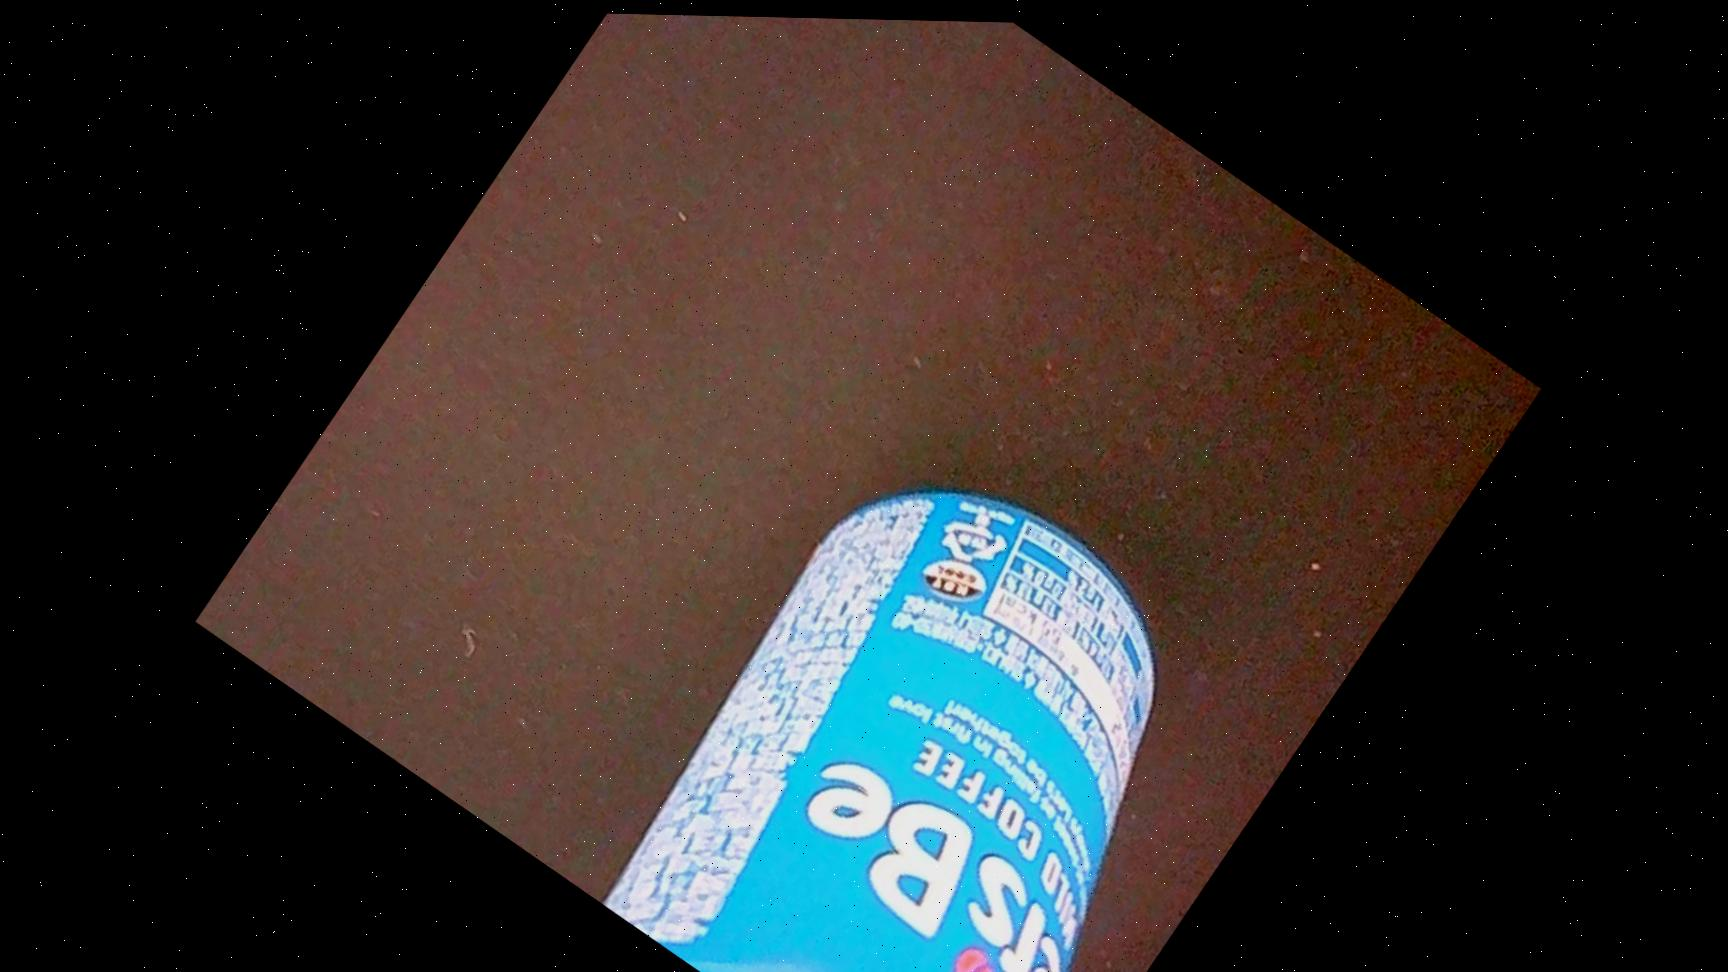letsbe: (577, 406, 1324, 972)
